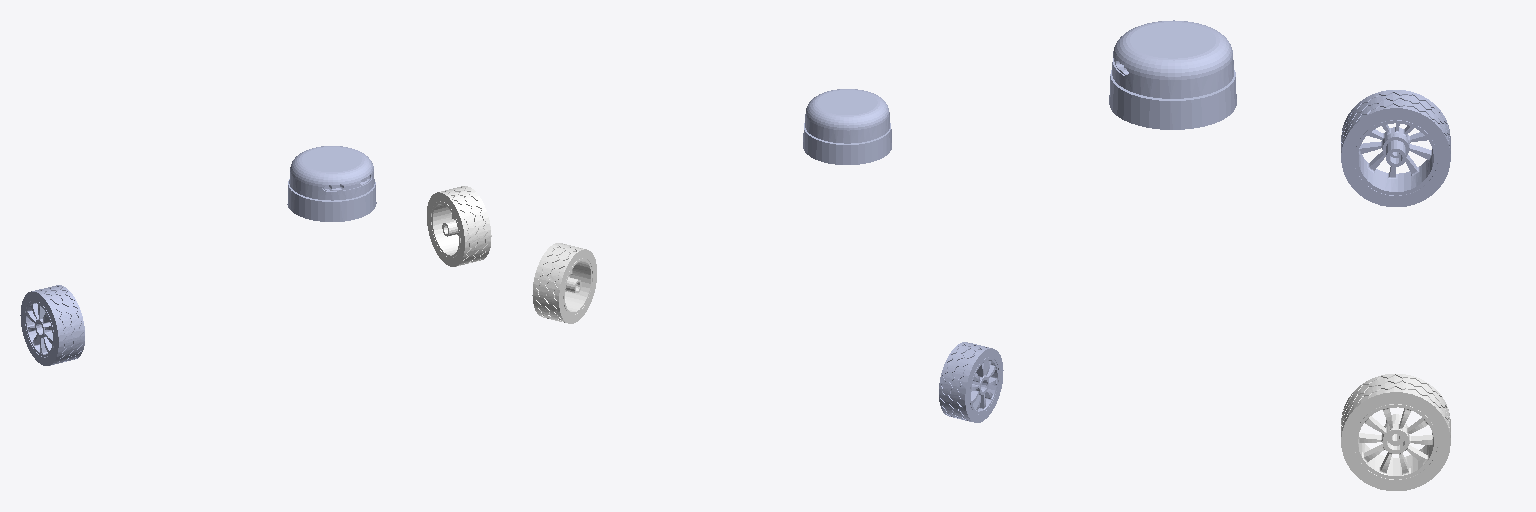
robot.urdf — robot_description:
<?xml version="1.0" encoding="utf-8"?>
<!-- This URDF was automatically created by SolidWorks to URDF Exporter! Originally created by [author] ([email redacted]) 
     Commit Version: 1.6.0-1-g15f4949  Build Version: 1.6.7594.29634
     For more information, please see http://wiki.ros.org/sw_urdf_exporter -->
<robot name="robot_description"> 

  <link name="base_footprint"/>

  <joint name="base_joint" type="fixed">
    <parent link="base_footprint"/>
    <child link="base_link"/>
    <origin xyz="0.0 0.0 0.04" rpy="0 0 0"/>
  </joint>

  <!-- base link -->
  <link name="base_link">

    <inertial>
      <origin
        xyz="1.09282591403144E-05 -0.208443654641338 -0.0148943025021112" rpy="0 0 0" />
      <mass value="1.24979965944518" />
      <inertia
        ixx="0.00486451475924956"
        ixy="3.70495761186734E-09"
        ixz="-7.44118138807528E-11"
        iyy="0.00537090313594017"
        iyz="-2.51200938218995E-05"
        izz="0.00992821992821282" />
    </inertial>

    <visual>
      <origin xyz="0 0 0" rpy="0 0 0" />
      <geometry>
        <mesh filename="package://robot_description/meshes/base_link.stl" />
      </geometry>
      <material name="">
        <color rgba="0.792156862745098 0.819607843137255 0.933333333333333 1" />
      </material>
    </visual>
    <!--you need to change collision range after experiment-->>
    <collision>
      <origin xyz="0 0 0" rpy="0 0 0" />
      <geometry>
        <mesh filename="package://robot_description/meshes/base_link.stl" />
      </geometry>
    </collision>
  </link>

  <!-- lidar -->
  <link name="base_scan">

    <inertial>
      <origin
        xyz="7.89E-09 0.01946 -0.00012848" rpy="0 0 0" />
      <mass value="0.16606" />
      <inertia
        ixx="7.644E-05"
        ixy="3.8566E-12"
        ixz="-3.9607E-12"
        iyy="0.0001086"
        iyz="2.3374E-07"
        izz="7.6922E-05" />
    </inertial>

    <visual>
      <origin xyz="0 0 0" rpy="0 0 0" />
      <geometry>
        <mesh filename="package://robot_description/meshes/lidar.stl" />
      </geometry>
      <material name="">
        <color rgba="0.79216 0.81961 0.93333 1" />
      </material>
    </visual>

    <collision>
      <origin xyz="0 0 0" rpy="0 0 0" />
      <geometry>
        <mesh filename="package://robot_description/meshes/lidar.stl" />
      </geometry>
    </collision>
  </link>


  <joint name="scan_joint" type="fixed">
    <origin xyz="-0.0017476 -0.332 0.086" rpy="1.5708 0 0" />
    <parent link="base_link" />
    <child link="base_scan" />
  </joint>


  <link name="wheel_right_link">
    <inertial>
      <origin xyz="0.01362 1.1941E-07 -3.7685E-08" rpy="0 0 0" />
      <mass value="0.049662" />
      <inertia
        ixx="3.5079E-05"
        ixy="-1.5541E-11"
        ixz="3.8986E-11"
        iyy="2.0338E-05"
        iyz="9.4448E-11"
        izz="2.0338E-05" />
    </inertial>
    <visual>
      <origin xyz="0 0 0" rpy="0 0 0" />
      <geometry>
        <mesh filename="package://robot_description/meshes/right.stl" />
      </geometry>
      <material name="">
        <color rgba="0.79216 0.81961 0.93333 1" />
      </material>
    </visual>
    <collision>
      <origin xyz="0 0 0" rpy="0 0 0" />
      <geometry>
        <mesh filename="package://robot_description/meshes/right.stl" />
      </geometry>
    </collision>
  </link>


  <joint name="wheel_right_joint" type="continuous">
    <origin xyz="-0.186 -0.2 -0.0357" rpy="-0.21892 0 3.1416" />
    <parent link="base_link" />
    <child link="wheel_right_link" />
    <axis xyz="1 0 0" />
  </joint>


  <link name="wheel_left_link">
    <inertial>
      <origin xyz="0 0 0" rpy="0 0 0" />
      <mass value="0" />
      <inertia
        ixx="0"
        ixy="0"
        ixz="0"
        iyy="0"
        iyz="0"
        izz="0" />
    </inertial>
    <visual>
      <origin xyz="0 0 0" rpy="0 0 0" />
      <geometry>
        <mesh filename="package://robot_description/meshes/left.stl" />
      </geometry>
      <material name="">
        <color
          rgba="1 1 1 1" />
      </material>
    </visual>
    <collision>
      <origin xyz="0 0 0" rpy="0 0 0" />
      <geometry>
        <mesh filename="package://robot_description/meshes/left.stl" />
      </geometry>
    </collision>
  </link>


  <joint name="wheel_left_joint" type="continuous">
    <origin xyz="0.186 -0.2 -0.0357" rpy="-1.2852 0 0" />
    <parent link="base_link" />
    <child link="wheel_left_link" />
    <axis xyz="1 0 0" />
  </joint>

  
</robot>

--- What the picture shows (computed from the rendered views, not written in the file) ---
Views: 3 orthographic renders of the robot side by side, from view 1: azimuth 30°, elevation 25°; view 2: azimuth 150°, elevation 25°; view 3: azimuth 270°, elevation 25°.
Model robot_description with 5 links and 4 joints (2 continuous, 2 fixed), rooted at base_footprint, posed every joint at zero.
Visible links, largest first — view 1: base_scan, wheel_left_link, wheel_right_link; view 2: base_scan, wheel_left_link, wheel_right_link; view 3: base_scan, wheel_right_link, wheel_left_link.
Link boxes in pixels (x1=…): base_scan: x1=287, y1=146, x2=376, y2=221; wheel_left_link: x1=427, y1=186, x2=491, y2=266; wheel_right_link: x1=20, y1=285, x2=84, y2=365; base_scan: x1=803, y1=89, x2=891, y2=164; wheel_left_link: x1=532, y1=243, x2=596, y2=323; wheel_right_link: x1=939, y1=342, x2=1003, y2=422; base_scan: x1=1109, y1=20, x2=1236, y2=129; wheel_right_link: x1=1341, y1=90, x2=1450, y2=206; wheel_left_link: x1=1341, y1=374, x2=1450, y2=490.
Size in the robot's own frame: 0.424 by 0.2023 by 0.1952 metres.
Meshes: 4 distinct files referenced, 3 mesh visuals loaded (3 binary STL); not drawn: 1 (reference not matched to a file when rendering).
